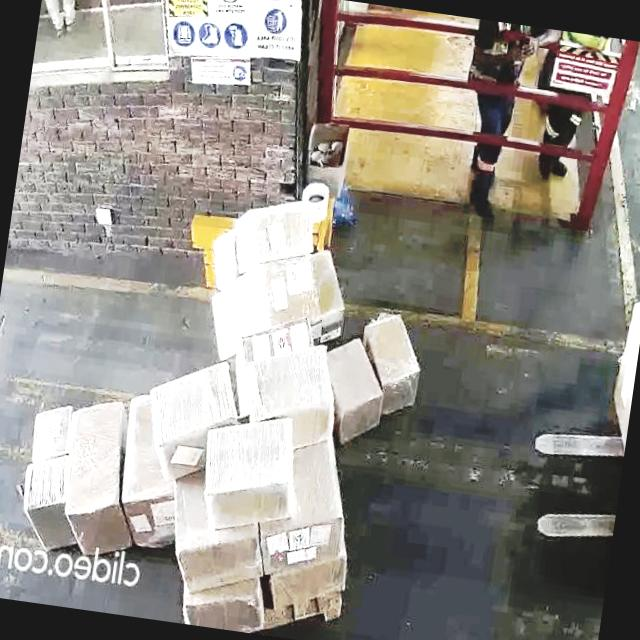Box: (194, 408, 306, 538), (138, 350, 240, 488), (61, 398, 130, 566), (206, 253, 312, 354), (244, 335, 340, 438), (368, 307, 433, 404), (232, 195, 312, 273), (264, 504, 344, 578), (16, 452, 72, 550), (326, 342, 384, 433), (182, 526, 260, 590), (179, 580, 264, 634), (128, 475, 176, 560), (26, 397, 74, 460)
